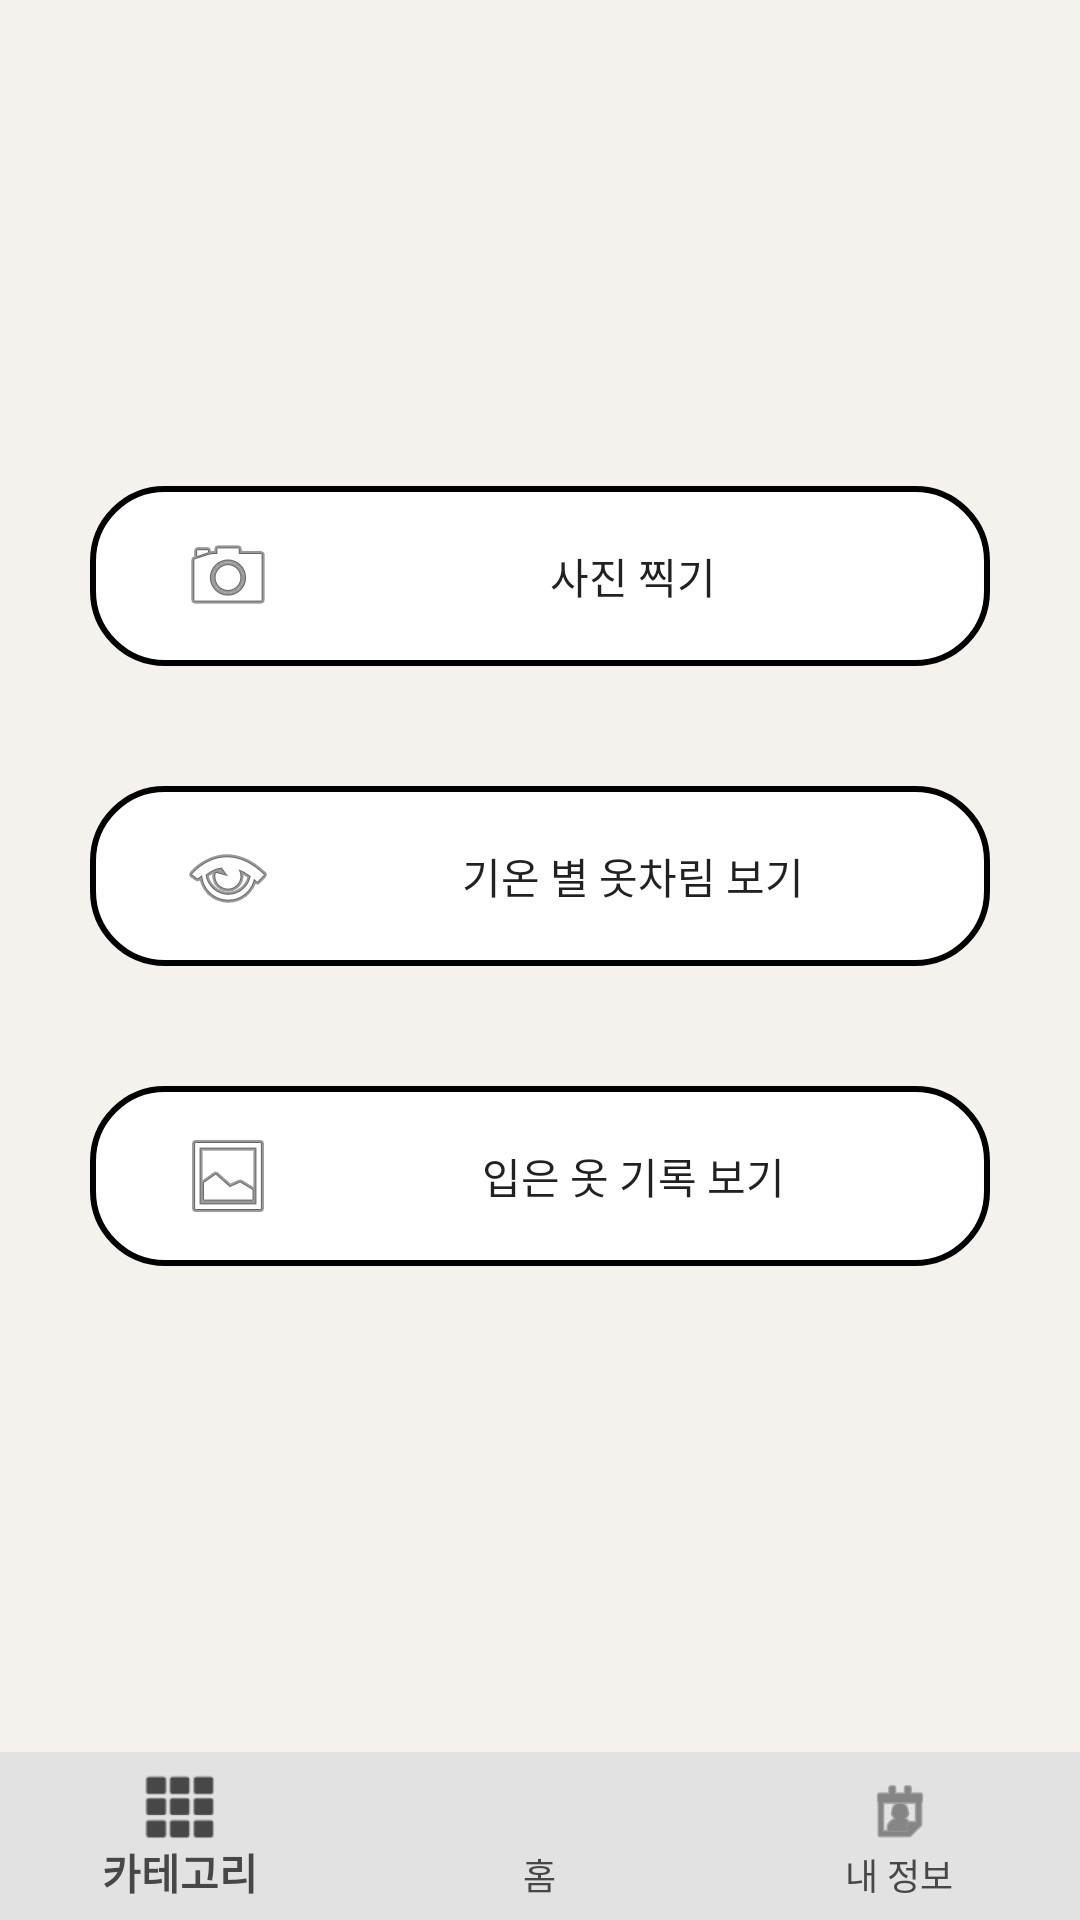

Locate icon controls on the screen. Image size 1080w x 1920h, boxes as (x1, y1, x2, y2).
camera: (191, 545, 265, 604)
gallery: (192, 1140, 264, 1212)
view: (189, 854, 267, 903)
